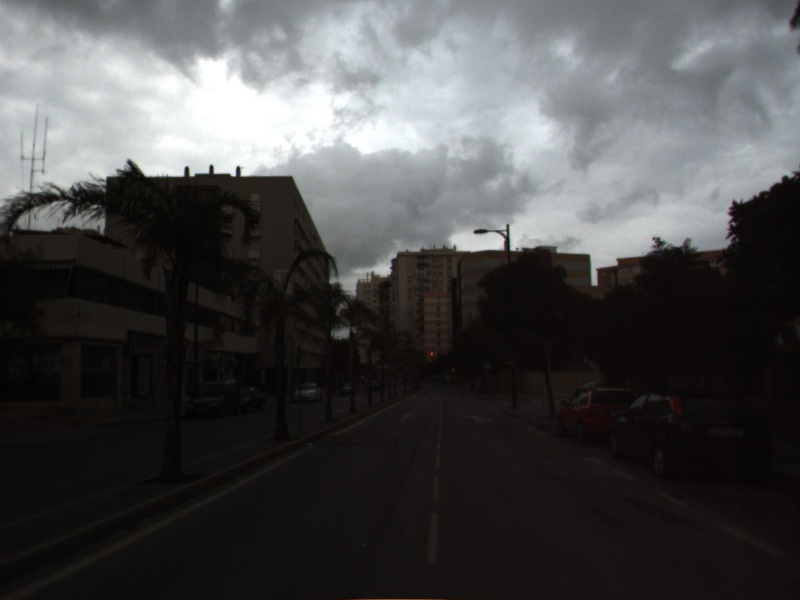STRAIGHT: (398, 411, 417, 424)
STRAIGHT_RIGHT: (466, 412, 498, 425)
